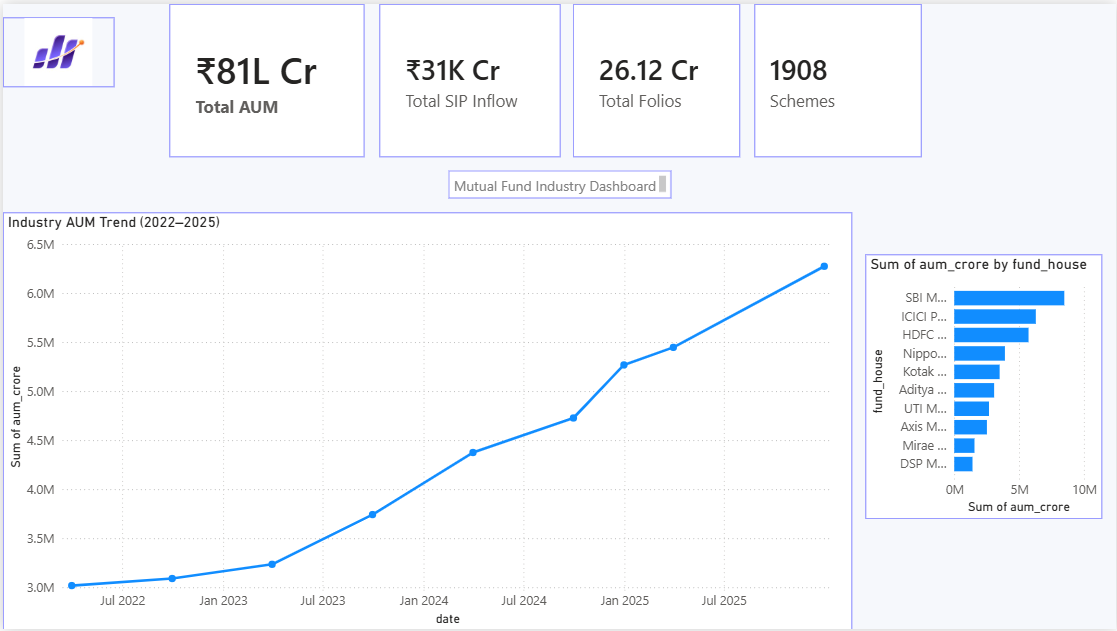

This screenshot's page, from the dashboard's own definition file:
{"tool":"powerbi","page":{"name":"Industry Overview","canvas":[1280,720],"ordinal":0},"visuals":[{"type":"cardVisual","fields":{"Data":["01_fund_master_clean.Total AUM Display"]},"box":[192,0,224,176],"z":0},{"type":"cardVisual","fields":{"Data":["01_fund_master_clean.Total SIP Inflow"]},"box":[432,0,208,176],"z":1000},{"type":"cardVisual","fields":{"Data":["01_fund_master_clean.Total Folios"]},"box":[656,0,192,176],"z":2000},{"type":"lineChart","title":"Industry AUM Trend (2022–2025)","fields":{"Y":["Sum(03_aum_by_fund_house_clean.aum_crore)"],"Category":["03_aum_by_fund_house_clean.date"]},"box":[0,240,976,480],"z":3000},{"type":"cardVisual","fields":{"Data":["01_fund_master_clean.Schemes"]},"box":[864,0,192,176],"z":4000},{"type":"image","box":[0,16,128,80],"z":5000},{"type":"textbox","box":[512,192,256,32],"z":6000},{"type":"clusteredBarChart","fields":{"Y":["Sum(03_aum_by_fund_house_clean.aum_crore)"],"Category":["03_aum_by_fund_house_clean.fund_house"]},"box":[992,288,272,304],"z":7000}]}

Visuals, with their boxes in screenshot pixels (x1, y1, x2, y2), scaled from the page's 1280x720 canvas onto the 1117x631 screenshot:
cardVisual - 01_fund_master_clean.Total AUM Display: <box>168,0,363,154</box>
cardVisual - 01_fund_master_clean.Total SIP Inflow: <box>377,0,558,154</box>
cardVisual - 01_fund_master_clean.Total Folios: <box>572,0,740,154</box>
"Industry AUM Trend (2022–2025)" lineChart: <box>0,210,852,630</box>
cardVisual - 01_fund_master_clean.Schemes: <box>754,0,922,154</box>
image: <box>0,14,112,84</box>
textbox: <box>447,168,670,196</box>
clusteredBarChart - Sum(03_aum_by_fund_house_clean.aum_crore) x 03_aum_by_fund_house_clean.fund_house: <box>866,252,1103,519</box>
